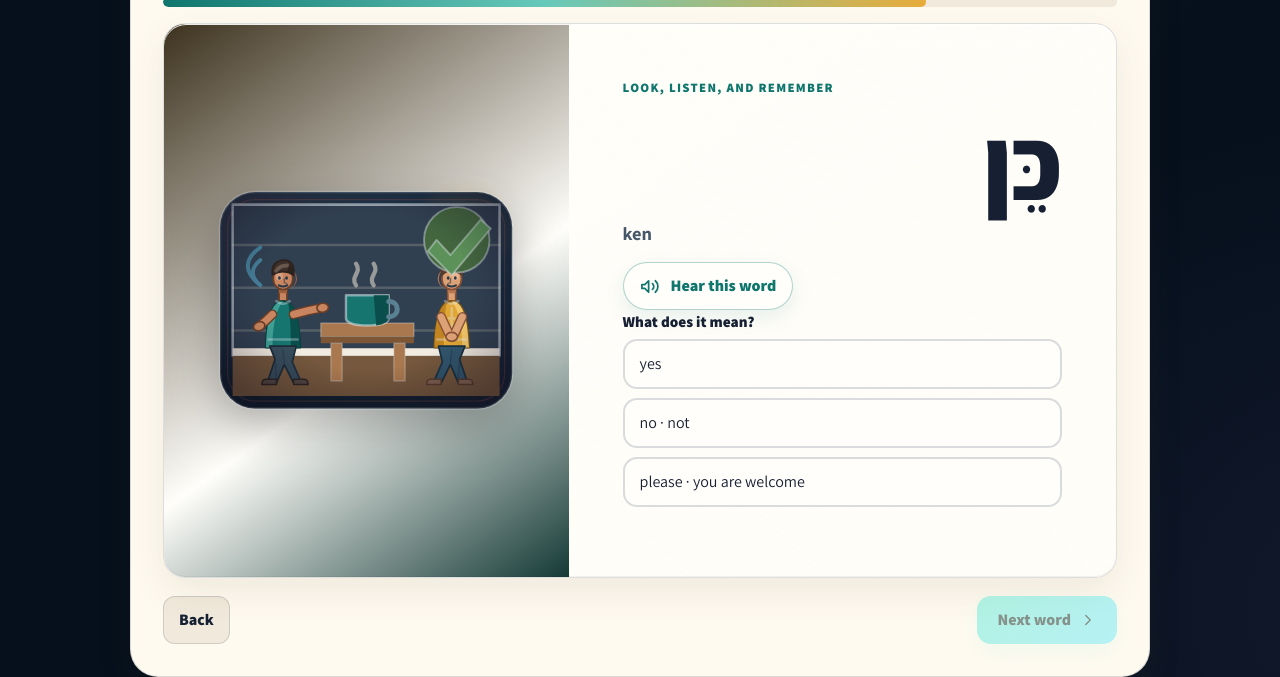
it: FirstStepsLesson › lets learners look back without regressing progress or duplicating a saved review
(page scrolled)
Expected: the heading "כֵּן" is shown, [983,95,1062,229]
Click the button "Back" at (196, 620), box [163,596,230,644]
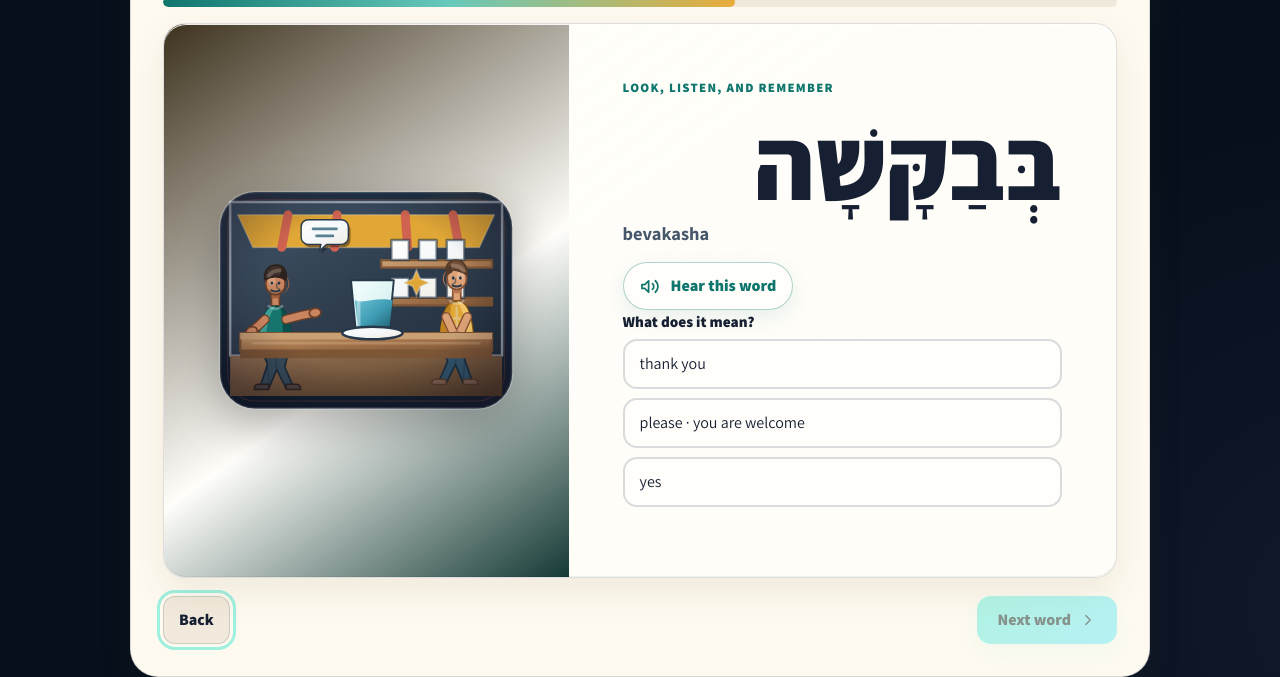
Click the button "please · you are welcome" at (722, 423), box [623,398,1062,448]
(page scrolled)
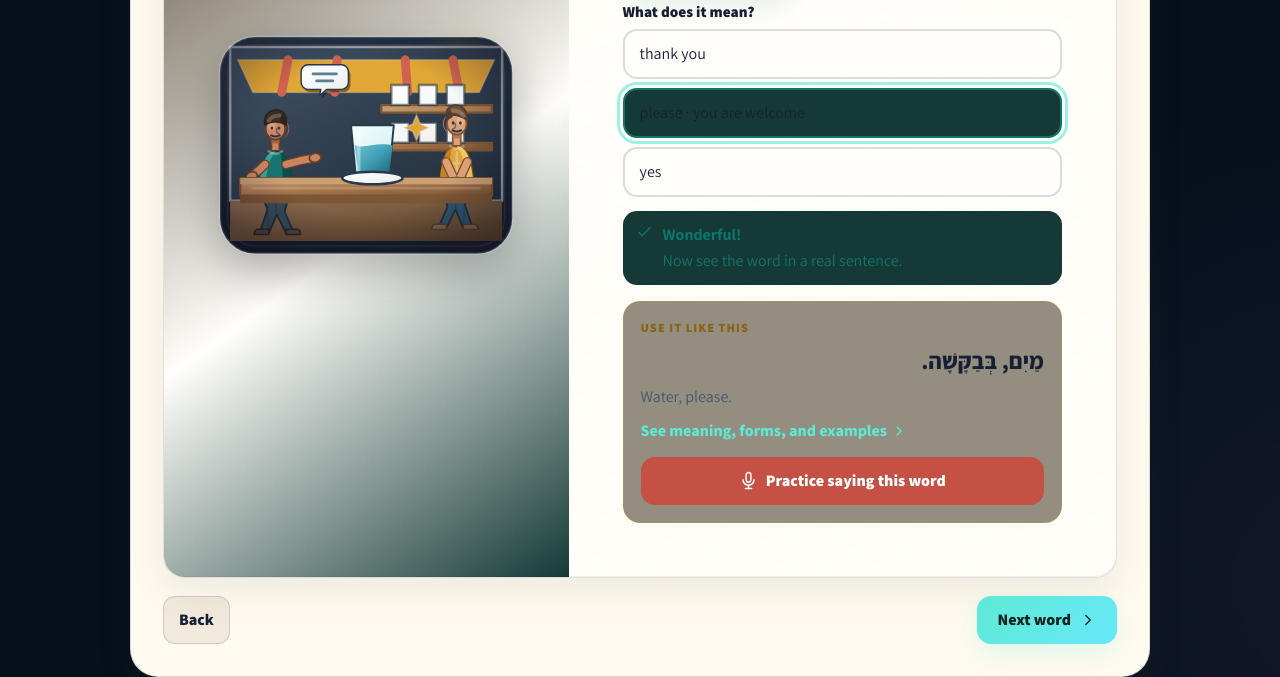
Expected: the button "Next word" is enabled, [978,596,1117,644]
